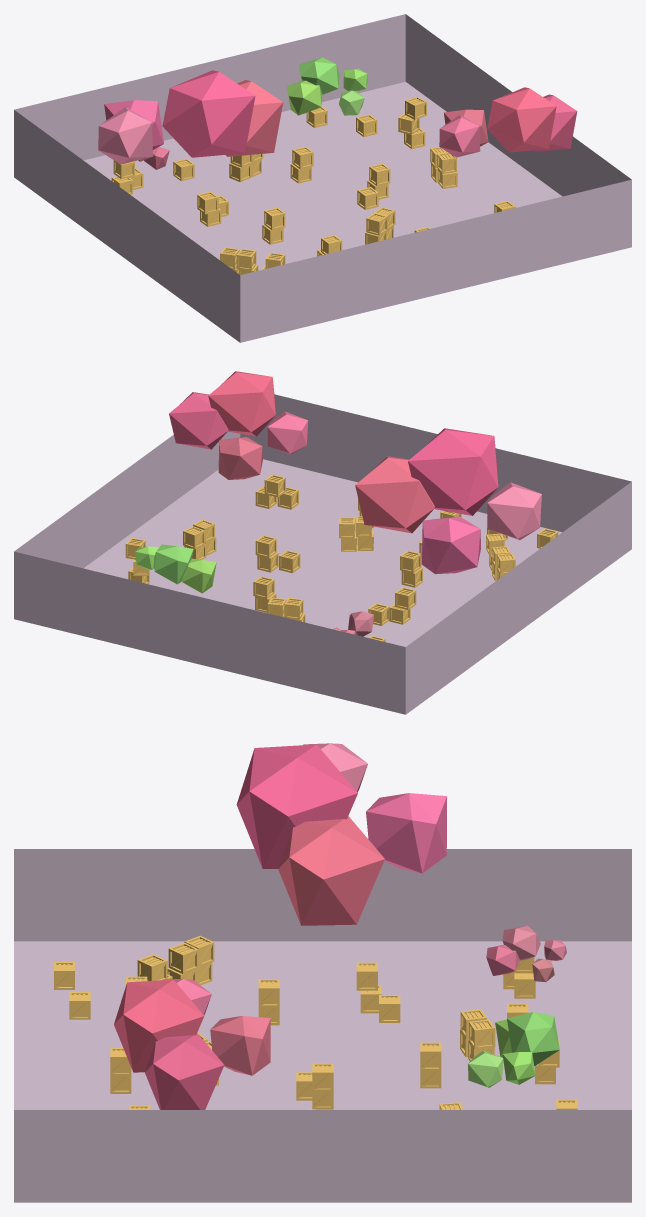
File: mapvp.glb
3 renders of one model, top to bottom at view 1: azimuth 30°, elevation 25°; view 2: azimuth 150°, elevation 25°; view 3: azimuth 270°, elevation 25°, orthographic. The views are drawn at different scales.
Visible parts, largest first — view 1: Plane, Icosphere.007, Icosphere.003, Icosphere.005, Icosphere.004, Icosphere.001, Icosphere, Icosphere.006, Icosphere.011, Icosphere.008, Icosphere.002, Icosphere.010 (+1 smaller); view 2: Plane, Icosphere.007, Icosphere.004, Icosphere.003, Icosphere.006, Icosphere.005, Icosphere, Icosphere.002, Icosphere.001, Icosphere.011, Icosphere.008, Icosphere.015; view 3: Plane, Icosphere.007, Icosphere.004, Icosphere.006, Icosphere.003, Icosphere, Icosphere.002, Icosphere.011, Icosphere.005, Icosphere.010, Icosphere.015, Icosphere.009 (+9 smaller).
Boxes of the visible parts, x1,y1,x2,y2 form: Plane: (14,14,631,342); Icosphere.007: (162,70,255,157); Icosphere.003: (487,87,556,152); Icosphere.005: (98,107,152,164); Icosphere.004: (226,80,283,156); Icosphere.001: (439,115,480,157); Icosphere: (534,94,577,151); Icosphere.006: (104,100,163,149); Icosphere.011: (299,57,339,94); Icosphere.008: (287,80,322,115); Icosphere.002: (444,109,488,146); Icosphere.010: (339,90,364,115); Plane: (14,394,631,714); Icosphere.007: (408,428,498,515); Icosphere.004: (355,456,434,533); Icosphere.003: (208,371,275,436); Icosphere.006: (421,516,480,574); Icosphere.005: (487,482,541,540); Icosphere: (169,392,228,449); Icosphere.002: (218,437,262,479); Icosphere.001: (267,411,308,454); Icosphere.011: (154,544,193,584); Icosphere.008: (182,558,216,593); Icosphere.015: (349,611,373,636); Plane: (14,849,631,1202); Icosphere.007: (236,744,357,868); Icosphere.004: (278,816,384,925); Icosphere.006: (366,793,446,873); Icosphere.003: (114,979,204,1072); Icosphere: (145,1033,224,1109); Icosphere.002: (210,1016,270,1075); Icosphere.011: (507,1012,559,1065); Icosphere.005: (303,743,367,792); Icosphere.010: (468,1050,503,1087); Icosphere.015: (502,925,540,960); Icosphere.009: (502,1052,535,1084).
Size of the model in its own units: 80.87 by 32.37 by 75.59.
